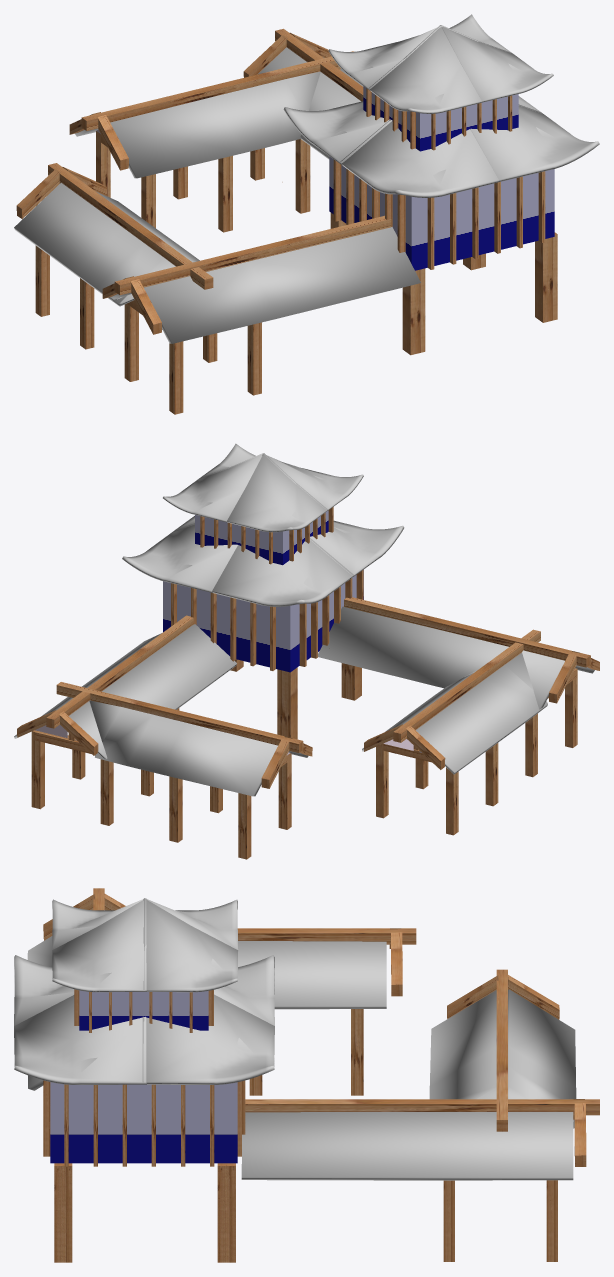
The model's file is YamatoTownCenter.fbx.
3 views of the same model, one above another, from view 1: azimuth 30°, elevation 25°; view 2: azimuth 150°, elevation 25°; view 3: azimuth 270°, elevation 25° (orthographic). The views are drawn at different scales.
Parts seen in each view (by area): view 1: sostreToldo, SostreGran, SostrePetit, Cube, columnes, columnesCopia, columnesCentrals, bigaSostre_003, columnaAltellGran_002, bigaSostre_004, Cube_001, bigaSostre_001 (+8 smaller); view 2: sostreToldo, SostreGran, SostrePetit, Cube, columnesCopia, columnes, bigaSostre_003, bigaSostre_004, Cube_001, columnesCentrals, bigaSostre_001, columnaAltellGran_003 (+9 smaller); view 3: sostreToldo, SostreGran, SostrePetit, Cube, bigaSostre_002, Cube_001, columnesCentrals, columnaAltellGran_001, bigaSostre_001, columnesCopia, bigaSostre_004, columnes (+7 smaller).
Boxes of the visible parts, x1,y1,x2,y2 form: sostreToldo: (14, 47, 420, 343); SostreGran: (283, 96, 599, 197); SostrePetit: (328, 14, 553, 113); Cube: (329, 156, 554, 270); columnes: (35, 245, 261, 414); columnesCopia: (96, 131, 310, 232); columnesCentrals: (330, 212, 557, 355); bigaSostre_003: (114, 215, 391, 295); columnaAltellGran_002: (427, 171, 545, 269); bigaSostre_004: (81, 51, 353, 130); Cube_001: (363, 86, 518, 151); bigaSostre_001: (48, 163, 213, 289); sostreToldo: (14, 606, 594, 796); SostreGran: (122, 516, 404, 606); SostrePetit: (163, 443, 363, 532); Cube: (163, 569, 363, 672); columnesCopia: (31, 730, 291, 859); columnes: (376, 668, 577, 835); bigaSostre_003: (344, 597, 590, 667); bigaSostre_004: (56, 682, 303, 752); Cube_001: (195, 510, 328, 565); columnesCentrals: (177, 659, 361, 739); bigaSostre_001: (393, 629, 540, 742); columnaAltellGran_003: (171, 583, 275, 670); sostreToldo: (27, 936, 576, 1180); SostreGran: (14, 955, 274, 1084); SostrePetit: (52, 898, 238, 992); Cube: (50, 1082, 237, 1163); bigaSostre_002: (245, 1099, 599, 1115); Cube_001: (79, 990, 208, 1030); columnesCentrals: (54, 1163, 235, 1262); columnaAltellGran_001: (64, 1084, 214, 1166); bigaSostre_001: (237, 928, 416, 944); columnesCopia: (443, 1180, 557, 1261); bigaSostre_004: (496, 969, 507, 1131); columnes: (249, 1009, 363, 1095).
Size of the model in its own units: 624 by 379 by 626.
